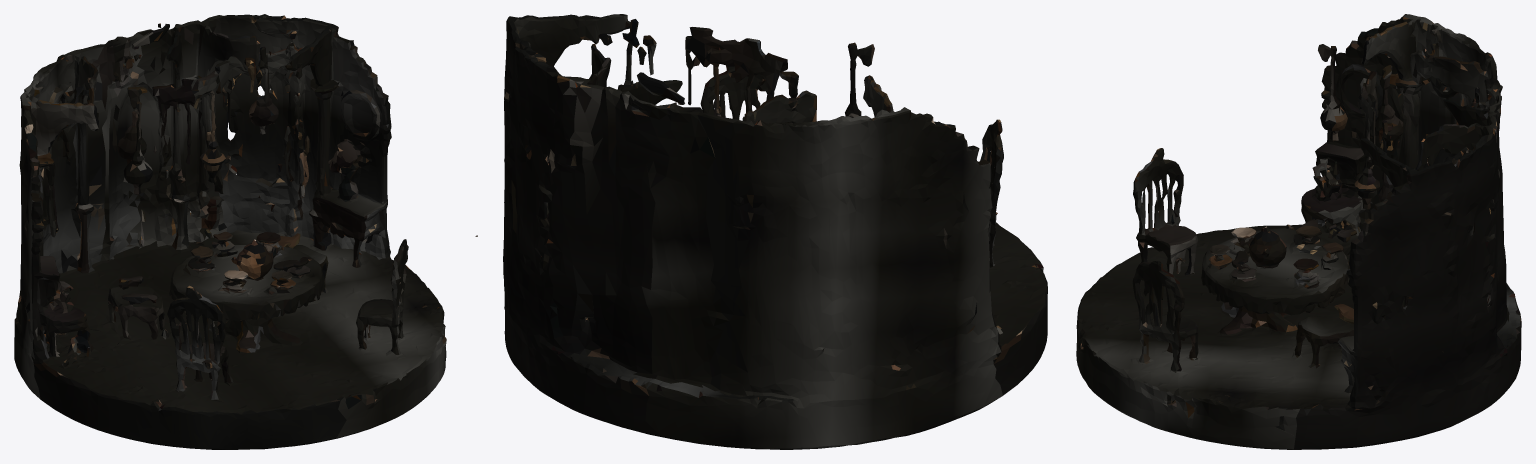
Rendered from mesa-cha-01.glb.
The picture shows the model from 3 angles, left to right: view 1: azimuth 30°, elevation 25°; view 2: azimuth 150°, elevation 25°; view 3: azimuth 270°, elevation 25°; orthographic projection. The views are drawn at different scales.
Parts seen in each view (by area): view 1: SM_Mesa_Cha_01; view 2: SM_Mesa_Cha_01; view 3: SM_Mesa_Cha_01.
Boxes of the visible parts, x1,y1,x2,y2 form: SM_Mesa_Cha_01: (14, 14, 446, 449); SM_Mesa_Cha_01: (475, 14, 1047, 449); SM_Mesa_Cha_01: (1076, 14, 1521, 449).
Bounding box in the file's own units: 5.86 × 4 × 5.85.
1 material, 1 textured.
